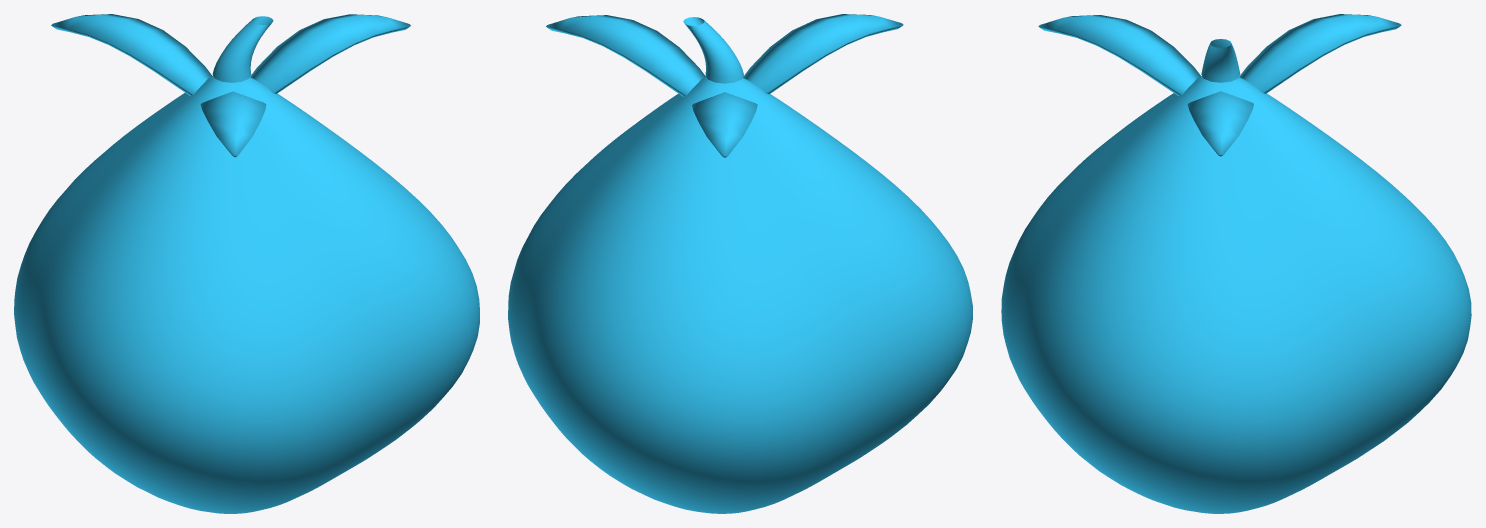
File: Speed.fbx
The picture shows the model from 3 angles, left to right: view 1: azimuth 30°, elevation 25°; view 2: azimuth 150°, elevation 25°; view 3: azimuth 270°, elevation 25°; orthographic projection.
Visible parts, largest first — view 1: Speed Fruit; view 2: Speed Fruit; view 3: Speed Fruit.
Boxes of the visible parts, box(x1,y1,x2,y2) form: Speed Fruit: box(14, 14, 479, 513); Speed Fruit: box(508, 14, 972, 513); Speed Fruit: box(1001, 14, 1471, 513).
Size of the model in its own units: 90 by 100 by 90.
